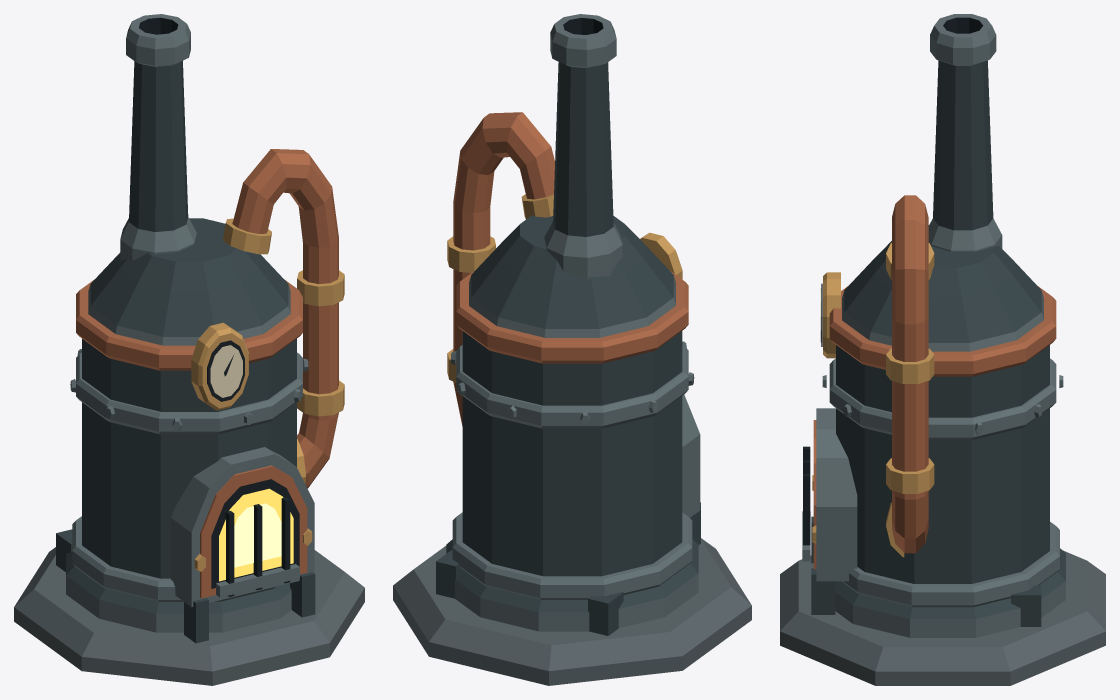
The model's file is Survact-caldera-v02.glb.
3 views of the same model, side by side, from view 1: azimuth 30°, elevation 25°; view 2: azimuth 150°, elevation 25°; view 3: azimuth 270°, elevation 25° (orthographic). The views are drawn at different scales.
Parts seen in each view (by area): view 1: Body, Mouth; view 2: Body; view 3: Body.
Boxes of the visible parts, bbox=[...] form: Body: bbox=[14, 14, 364, 685]; Mouth: bbox=[219, 488, 293, 581]; Body: bbox=[393, 14, 751, 685]; Body: bbox=[780, 14, 1105, 685].
Size of the model in its own units: 2.85 by 5.6 by 2.85.
